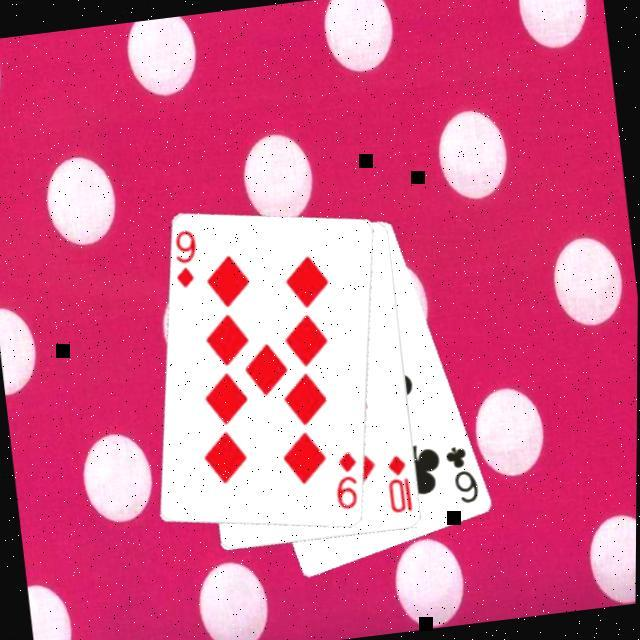10D: (382, 448, 414, 514)
6C: (440, 438, 482, 506)
9D: (165, 223, 203, 290), (326, 446, 364, 512)
